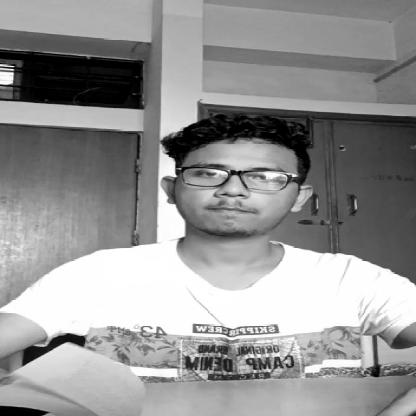Normal: (154, 110, 327, 244)
